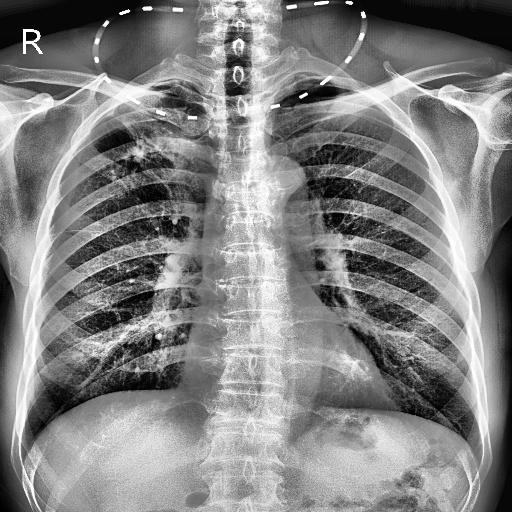0- Aortic enlargement: (258, 155, 306, 207), (260, 155, 306, 206)
11- Pleural thickening: (94, 104, 122, 121)
13- Pulmonary fibrosis: (110, 108, 196, 186), (107, 109, 173, 188), (116, 129, 170, 178)
